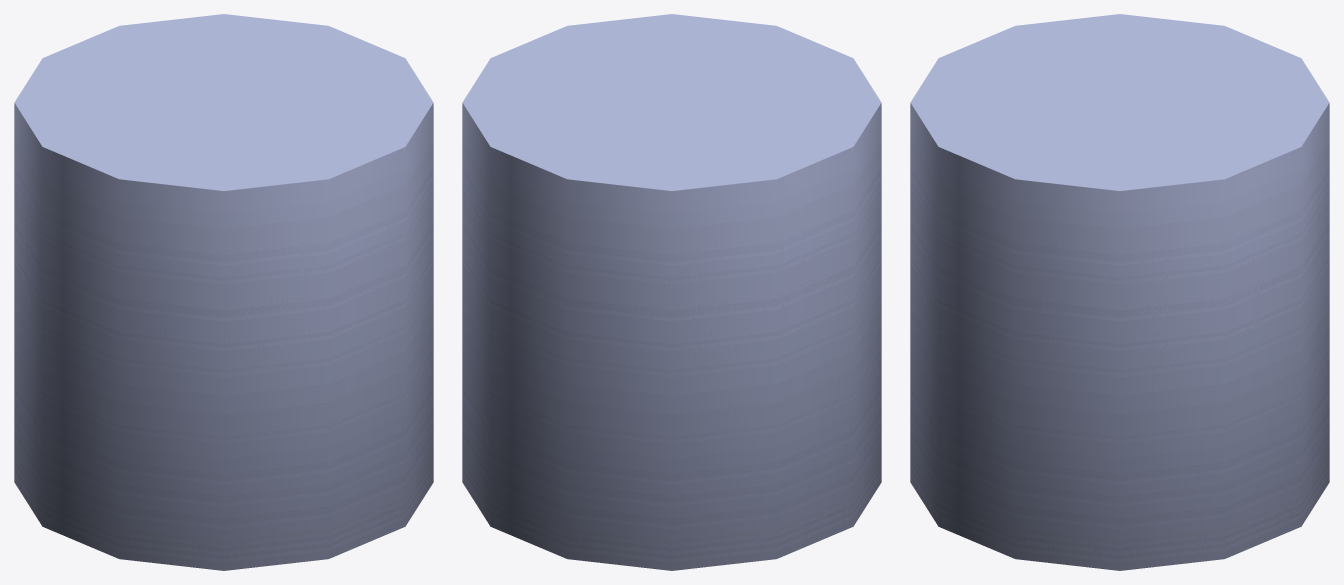
3 renders of one model, left to right at view 1: azimuth 30°, elevation 25°; view 2: azimuth 150°, elevation 25°; view 3: azimuth 270°, elevation 25°, orthographic.
Visible parts, largest first — view 1: shape-cylinder-col; view 2: shape-cylinder-col; view 3: shape-cylinder-col.
Boxes of the visible parts, <box> form: shape-cylinder-col: <box>14,14,433,570</box>; shape-cylinder-col: <box>462,14,881,570</box>; shape-cylinder-col: <box>910,14,1329,570</box>.
Size of the model in its own units: 1 by 1 by 1.
1 material, 1 textured.
